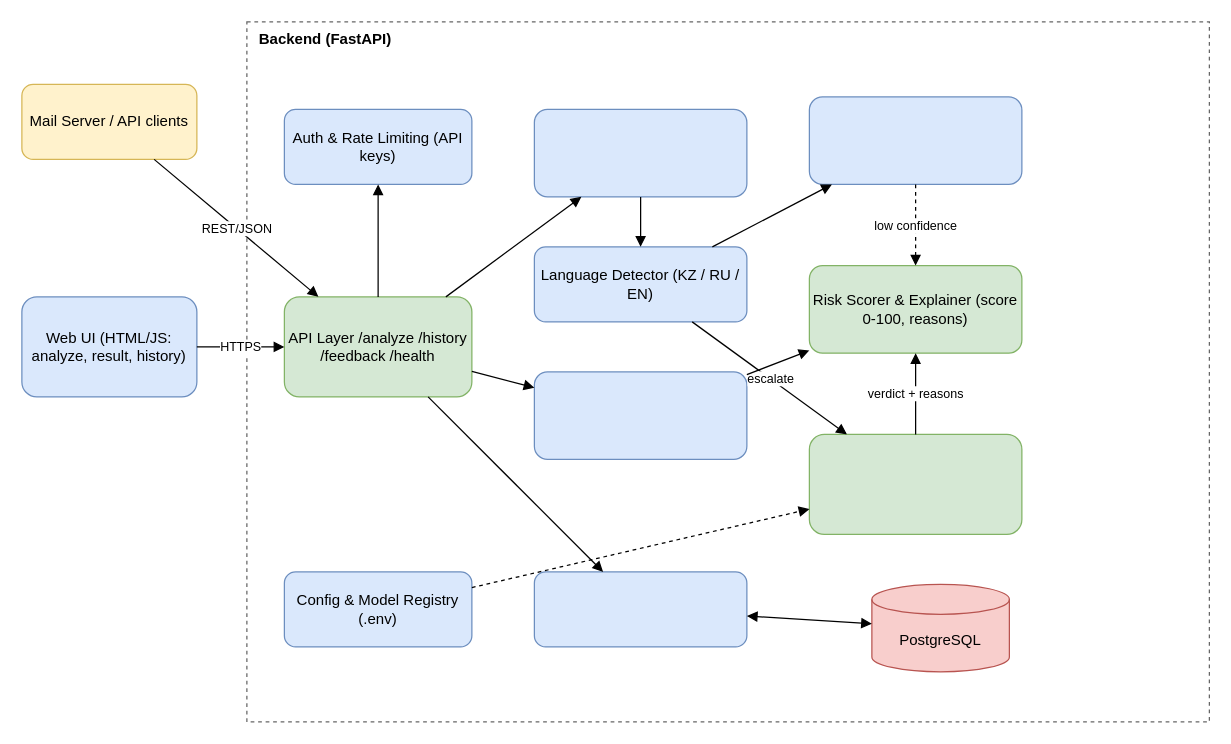
The diagram is 1231 pixels wide and 744 high, and some of its shapes have lost their labels. Each missing label, with the centre of its shape:
"Fast Classifier (fine-tuned multilingual DistilBERT)" goes at point (915, 140).
"LLM Adapter (Gemma-2 / Llama-3 zero/few-shot prompts)" goes at point (915, 483).
"Preprocessor (normalize, KZ Cyrillic, homoglyphs, HTML strip)" goes at point (640, 152).
"Repository Layer (SQLAlchemy)" goes at point (640, 609).
"URL Analyzer (extract, domain heuristics, lookups)" goes at point (640, 415).
